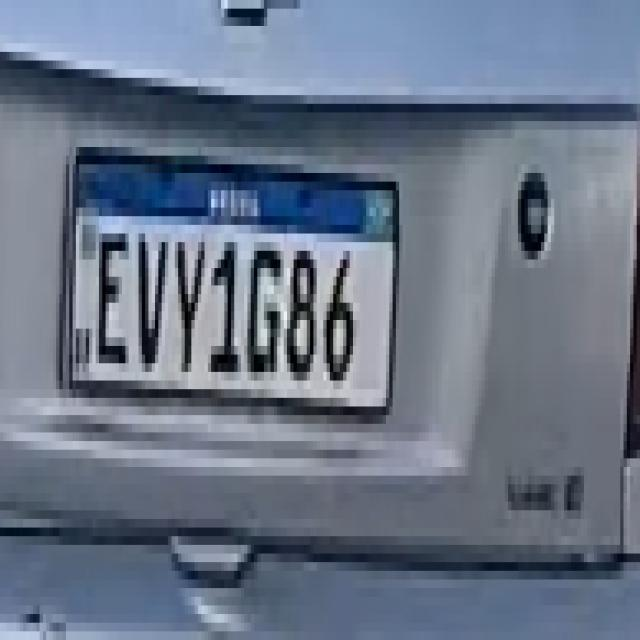Placa_mercosul_carro: (59, 145, 397, 419)
